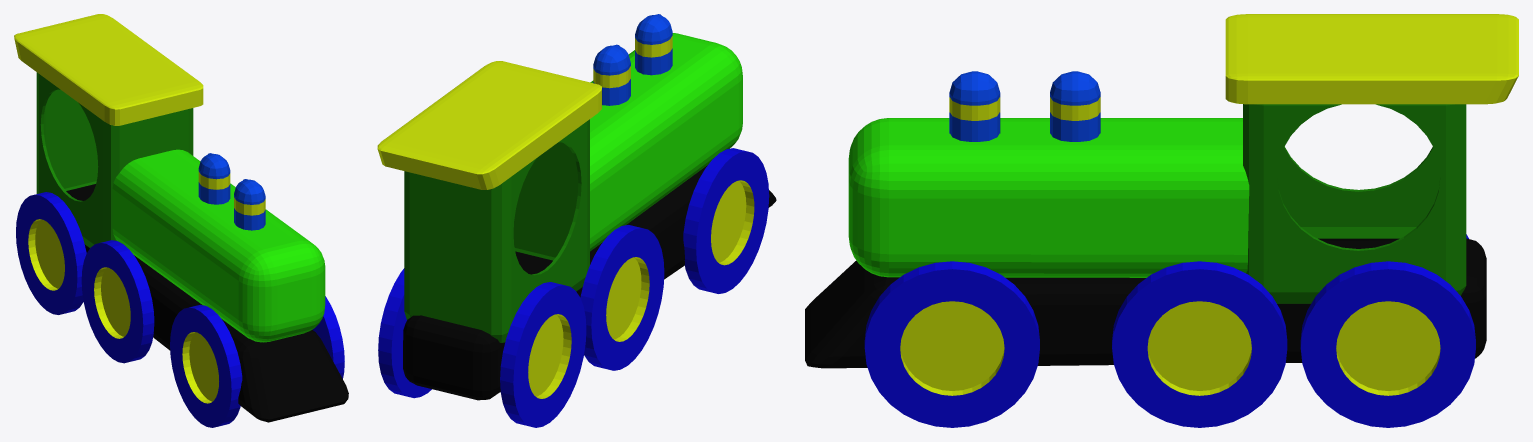
File: TrainObject.fbx
3 renders of one model, left to right at view 1: azimuth 30°, elevation 25°; view 2: azimuth 150°, elevation 25°; view 3: azimuth 270°, elevation 25°, orthographic. The views are drawn at different scales.
Visible parts, largest first — view 1: Cube.015, Cube.020, Cube.019, Cube.018, Cylinder.004, Cylinder.003, Cylinder.005, Cube.017, Cube.016, Cylinder; view 2: Cube.019, Cube.015, Cube.020, Cube.018, Cylinder.005, Cylinder.003, Cylinder.004, Cylinder.002, Cube.016, Cube.017; view 3: Cube.015, Cube.019, Cube.020, Cylinder.001, Cylinder.002, Cylinder, Cube.018, Cube.016, Cube.017.
Boxes of the visible parts, <box> form: Cube.015: <box>112,149,325,342</box>; Cube.020: <box>14,14,203,125</box>; Cube.019: <box>36,72,193,247</box>; Cube.018: <box>66,184,348,422</box>; Cylinder.004: <box>81,240,154,363</box>; Cylinder.003: <box>170,304,242,427</box>; Cylinder.005: <box>16,192,86,314</box>; Cube.017: <box>198,153,230,204</box>; Cube.016: <box>234,179,265,230</box>; Cylinder: <box>312,296,344,378</box>; Cube.019: <box>404,119,589,342</box>; Cube.015: <box>590,33,742,251</box>; Cube.020: <box>377,61,601,189</box>; Cube.018: <box>403,164,776,400</box>; Cylinder.005: <box>500,282,586,427</box>; Cylinder.003: <box>683,148,769,293</box>; Cylinder.004: <box>580,225,664,370</box>; Cylinder.002: <box>378,268,431,398</box>; Cube.016: <box>635,14,672,75</box>; Cube.017: <box>593,44,630,105</box>; Cube.015: <box>848,118,1249,277</box>; Cube.019: <box>1243,104,1466,303</box>; Cube.020: <box>1225,14,1518,104</box>; Cylinder.001: <box>1112,261,1287,427</box>; Cylinder.002: <box>1300,261,1475,427</box>; Cylinder: <box>864,261,1039,427</box>; Cube.018: <box>805,238,1486,368</box>; Cube.016: <box>949,71,1000,141</box>; Cube.017: <box>1050,71,1100,141</box>.
Bounding box in the file's own units: 147 × 296 × 560.
